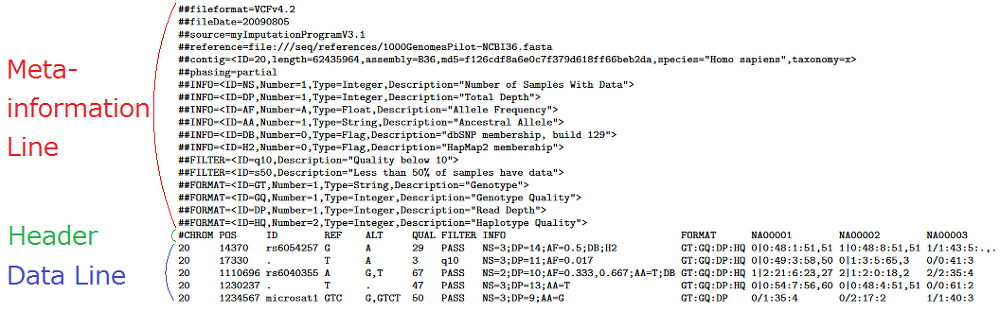table: (178, 230, 1000, 305)
